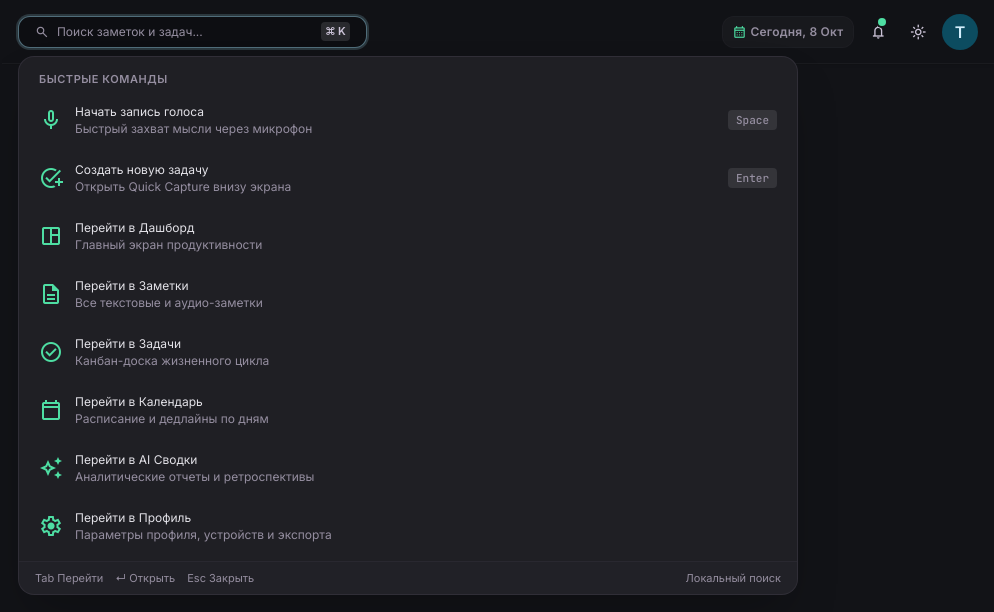
CommandPaletteModal search behavior › updates results as the user types and highlights the matching snippet
The width and height of the screenshot is (994, 612).
Type "метрик" into the dropdown at (185, 32), box [57, 22, 313, 40]
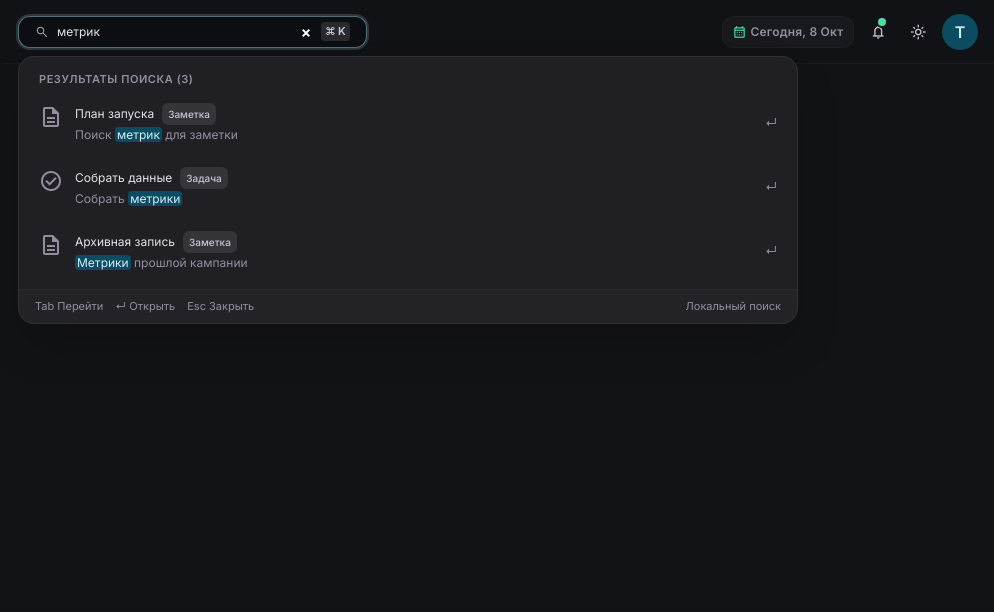
Expected: the number of options is 3, [27, 93, 789, 153]; [27, 157, 789, 217]; [27, 221, 789, 281]
Expected: the text "метрик" is shown, [115, 127, 162, 142]
